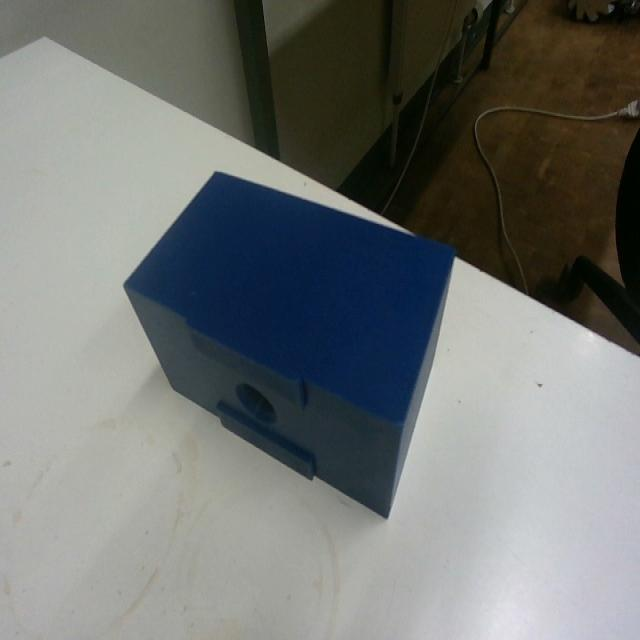Blue Cuboid: (121, 165, 457, 519)
